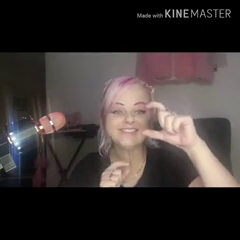C: (137, 98, 200, 157)
